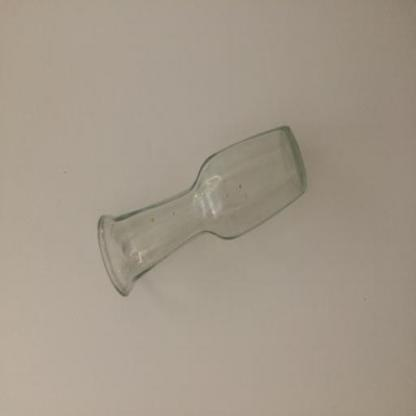Glass: (98, 126, 307, 295)
